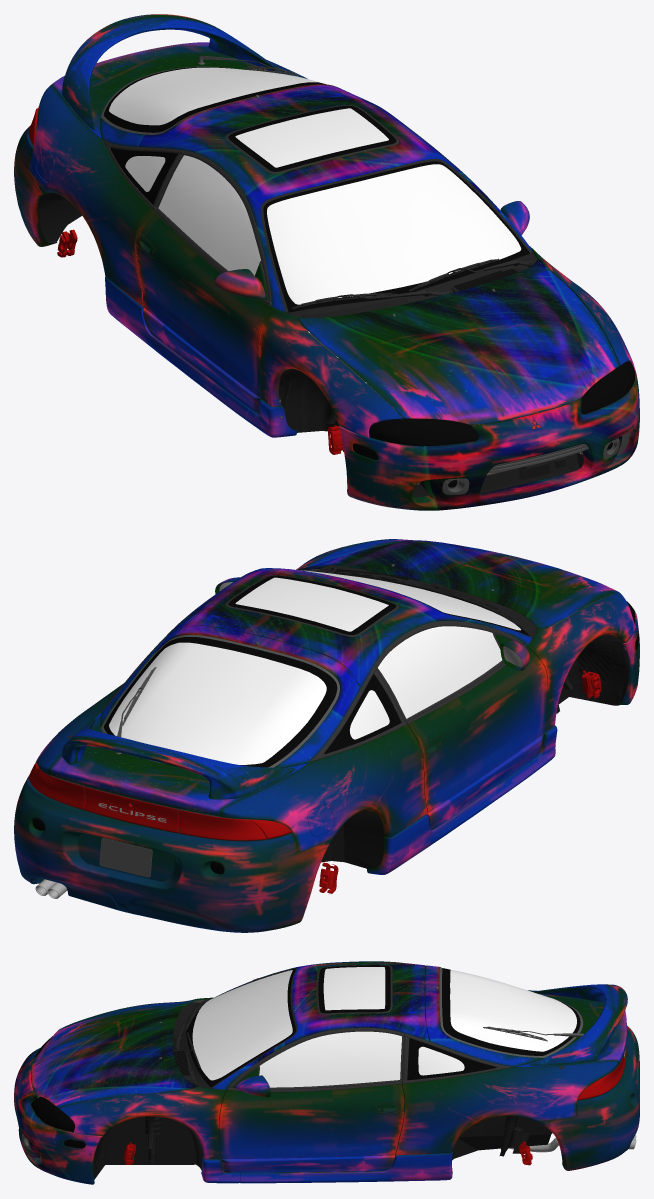
3 views of the same model, one above another, from view 1: azimuth 30°, elevation 25°; view 2: azimuth 150°, elevation 25°; view 3: azimuth 270°, elevation 25° (orthographic). The views are drawn at different scales.
Visible parts, largest first — view 1: GSX:M_CarPaint_Max, GSX:M_Glass_WindowRight_Low, GSX:M_Glass_WindowSurround, GSX:M_Chassis_Max, GSX:M_LGlass_InnerClear_Max, GSX:M_Opaque_PlasticRoughBlack_Max, GSX:M_Opaque_AluminumDarkRough_Max, GSX:M_Engine_Max, GSX:M_Opaque_ChromeSmooth_Max1; view 2: GSX:M_CarPaint_Max, GSX:M_Glass_WindowRight_Low, GSX:M_Glass_WindowSurround, GSX:M_LGlass_OuterRed_Max, GSX:M_Chassis_Max, GSX:M_Opaque_PlasticRoughBlack_Max, GSX:M_Opaque_AluminumDarkRough_Max, GSX:M_LicensePlate_Max, GSX:M_Engine_Max, GSX:M_Opaque_ChromeSmooth_Max1; view 3: GSX:M_CarPaint_Max, GSX:M_Glass_WindowRight_Low, GSX:M_Chassis_Max, GSX:M_Glass_WindowSurround, GSX:M_Opaque_PlasticRoughBlack_Max, GSX:M_Engine_Max, GSX:M_Opaque_AluminumDarkRough_Max, GSX:M_LGlass_InnerClear_Max, GSX:M_Opaque_ChromeSmooth_Max1, GSX:M_LGlass_OuterRed_Max.
Part boxes in pixels (box(x1,y1,x2,y2)): GSX:M_CarPaint_Max: box(14, 14, 639, 510); GSX:M_Glass_WindowRight_Low: box(109, 67, 521, 304); GSX:M_Glass_WindowSurround: box(103, 67, 529, 312); GSX:M_Chassis_Max: box(37, 192, 627, 497); GSX:M_LGlass_InnerClear_Max: box(352, 361, 638, 487); GSX:M_Opaque_PlasticRoughBlack_Max: box(32, 105, 603, 419); GSX:M_Opaque_AluminumDarkRough_Max: box(51, 56, 629, 494); GSX:M_Engine_Max: box(55, 89, 569, 423); GSX:M_Opaque_ChromeSmooth_Max1: box(260, 65, 531, 312); GSX:M_CarPaint_Max: box(14, 539, 639, 932); GSX:M_Glass_WindowRight_Low: box(109, 570, 520, 764); GSX:M_Glass_WindowSurround: box(103, 575, 529, 767); GSX:M_LGlass_OuterRed_Max: box(28, 764, 291, 840); GSX:M_Chassis_Max: box(321, 634, 629, 868); GSX:M_Opaque_PlasticRoughBlack_Max: box(32, 573, 526, 879); GSX:M_Opaque_AluminumDarkRough_Max: box(100, 564, 514, 767); GSX:M_LicensePlate_Max: box(99, 838, 152, 877); GSX:M_Engine_Max: box(53, 569, 611, 816); GSX:M_Opaque_ChromeSmooth_Max1: box(68, 565, 530, 738); GSX:M_CarPaint_Max: box(14, 961, 639, 1184); GSX:M_Glass_WindowRight_Low: box(192, 965, 576, 1087); GSX:M_Chassis_Max: box(32, 1090, 552, 1179); GSX:M_Glass_WindowSurround: box(186, 965, 580, 1087); GSX:M_Opaque_PlasticRoughBlack_Max: box(227, 964, 621, 1112); GSX:M_Engine_Max: box(159, 971, 442, 1092); GSX:M_Opaque_AluminumDarkRough_Max: box(22, 967, 583, 1161); GSX:M_LGlass_InnerClear_Max: box(31, 1036, 85, 1148); GSX:M_Opaque_ChromeSmooth_Max1: box(175, 967, 563, 1088); GSX:M_LGlass_OuterRed_Max: box(577, 1044, 626, 1100).
Bounding box in the file's own units: 0.0185 × 0.0117 × 0.0438.
18 materials, 7 textured.
